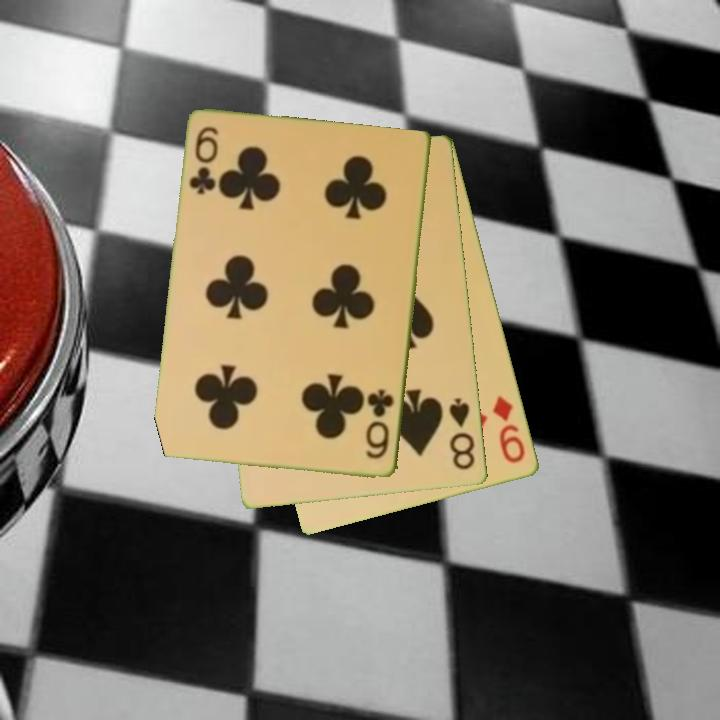6c: (362, 386, 398, 463), (186, 123, 222, 198)
8s: (446, 394, 478, 473)
9d: (489, 392, 529, 467)
